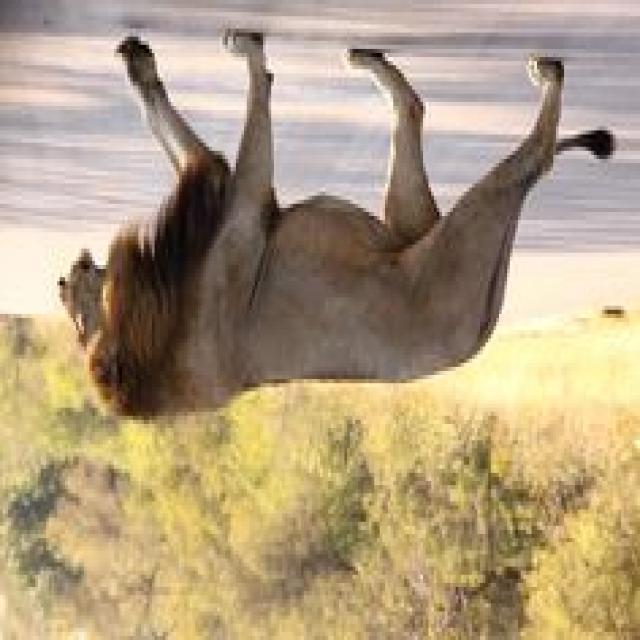lions: (8, 0, 640, 490)
